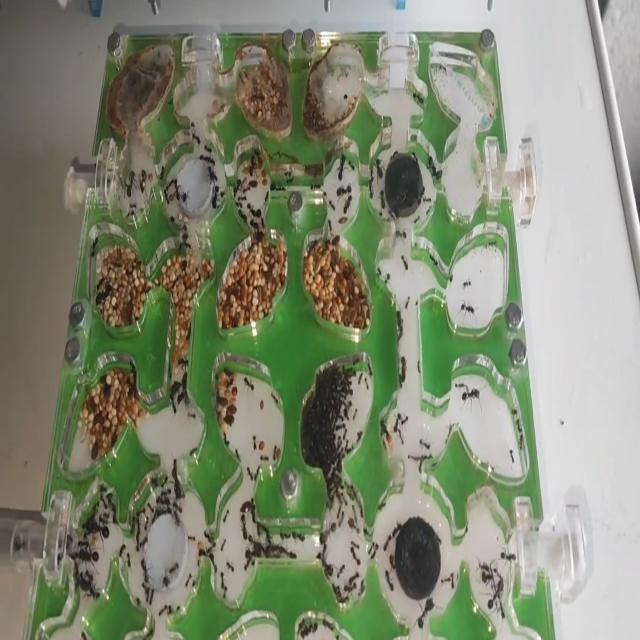Minor: (458, 299, 478, 321), (243, 374, 255, 394), (419, 436, 433, 453), (400, 253, 410, 275), (461, 275, 473, 290), (251, 432, 259, 452), (412, 213, 420, 225)
Soldier: (460, 384, 488, 409), (91, 519, 110, 547), (336, 152, 347, 182), (336, 182, 352, 198)
